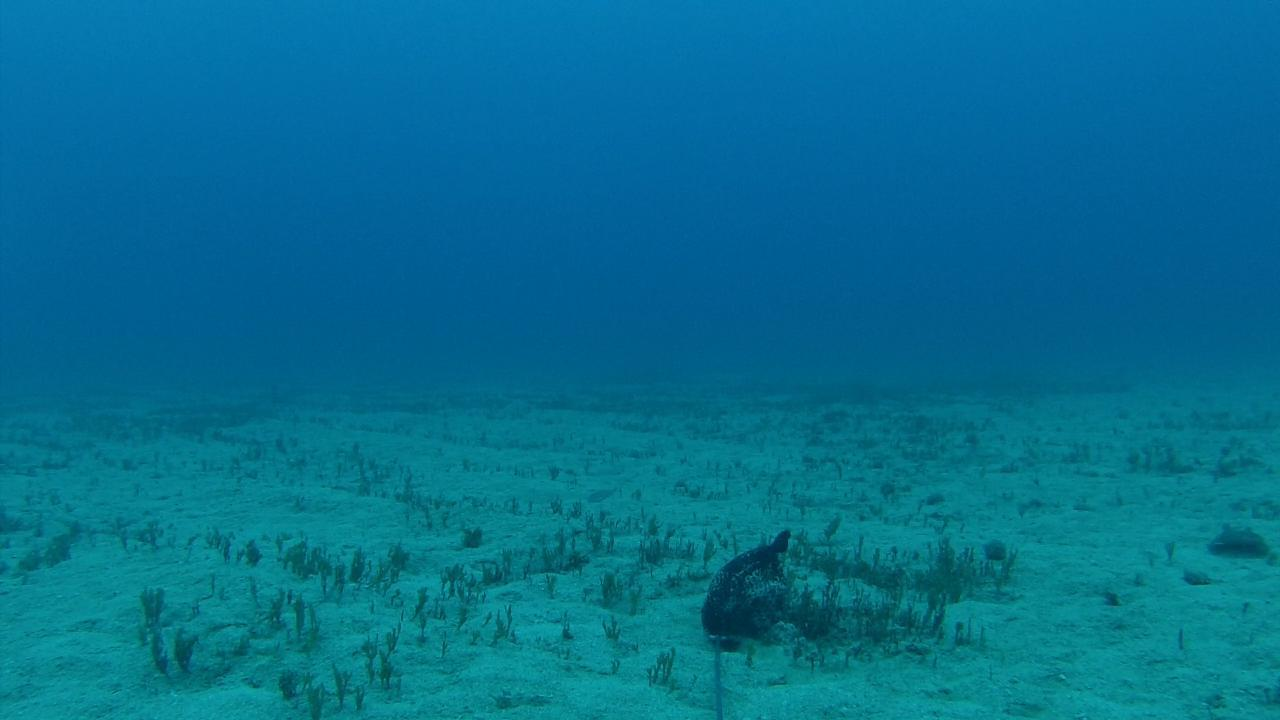bothus: (1204, 521, 1268, 556)
